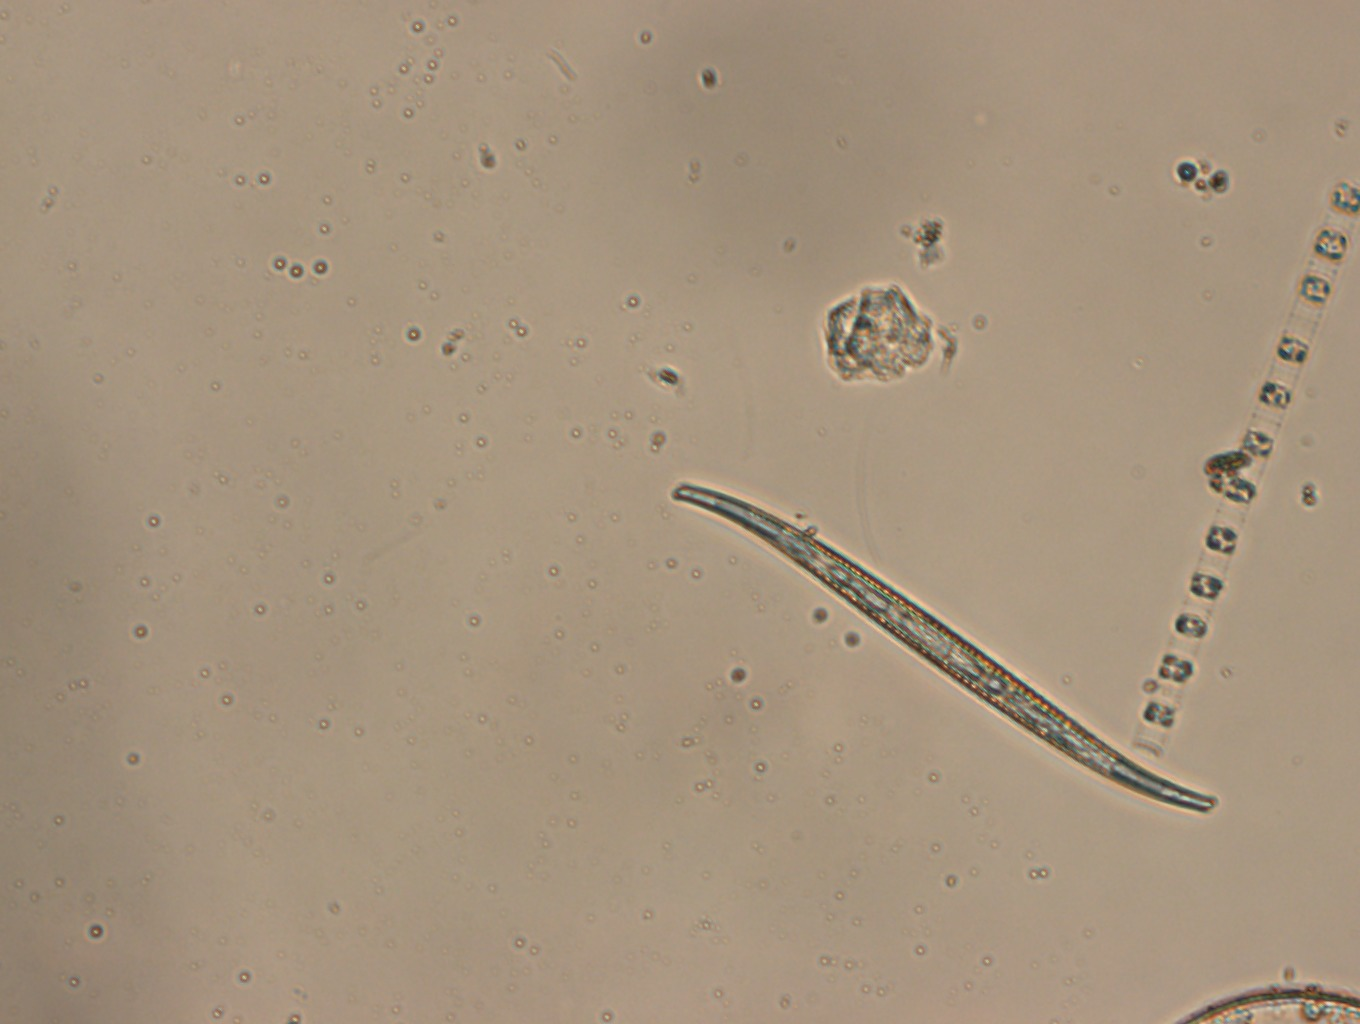pleurosigma pelagicum: (661, 478, 1223, 823)
skeletonema: (1110, 170, 1360, 757)
